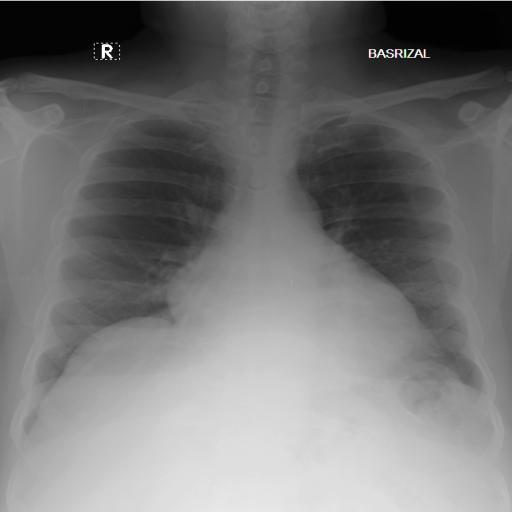kardiomegali: (22, 70, 496, 412)
